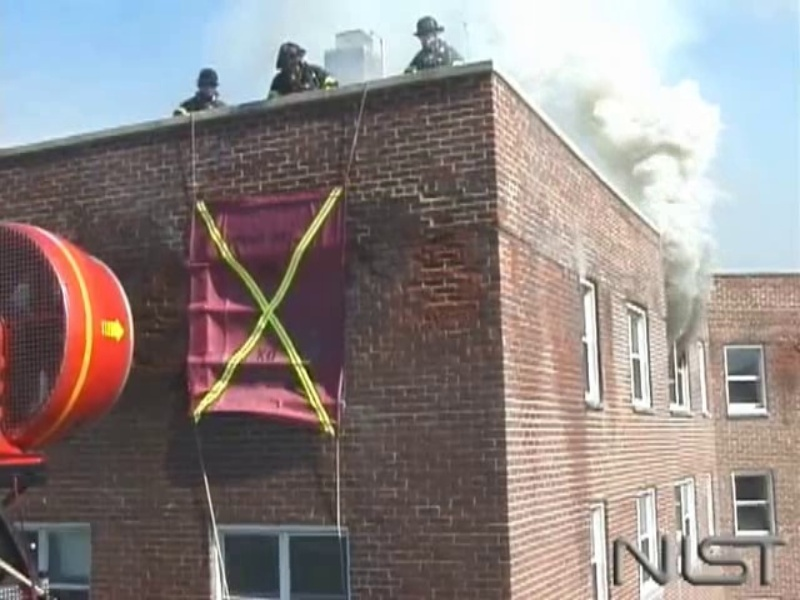smoke: (593, 43, 707, 310)
